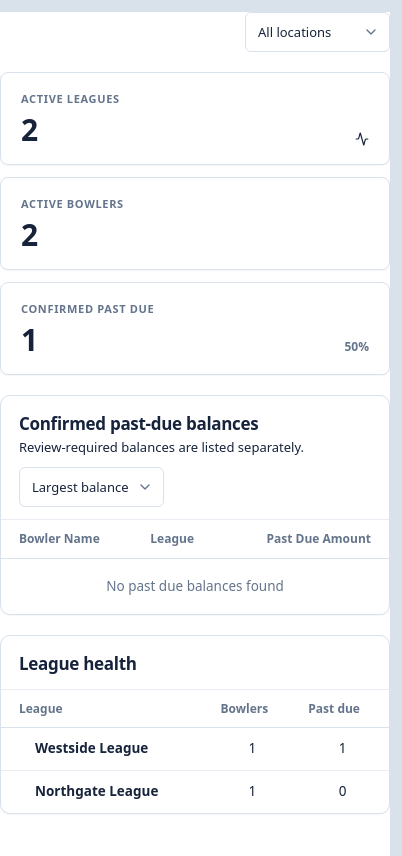
it: HomePage F1 financial boundary › narrows leagues, bowlers, and past-due counts to the selected location
The width and height of the screenshot is (402, 856).
expect the text "1" is shown: met, box [21, 323, 38, 356]
Select "Northgate Bowl" in the 1st dropdown named "Location": (318, 32) [245, 12, 390, 52]
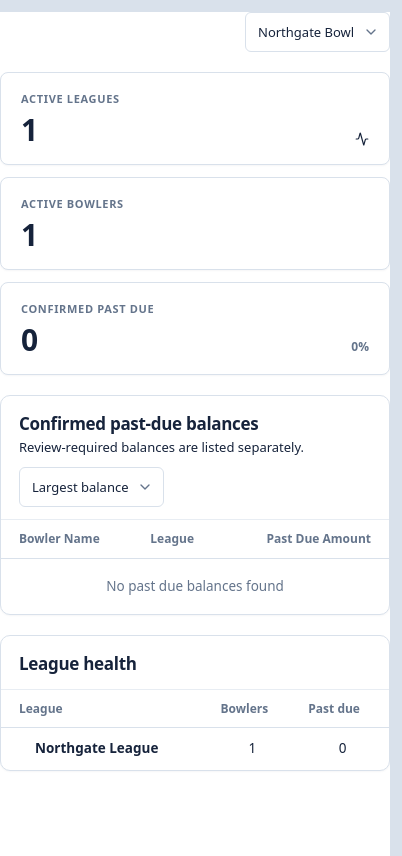
expect the link "Westside League" is gone: met
expect the text "0" is shown: met, box [21, 323, 38, 356]
expect the text "1" below "Active Leagues" is shown: met, box [21, 109, 38, 150]
